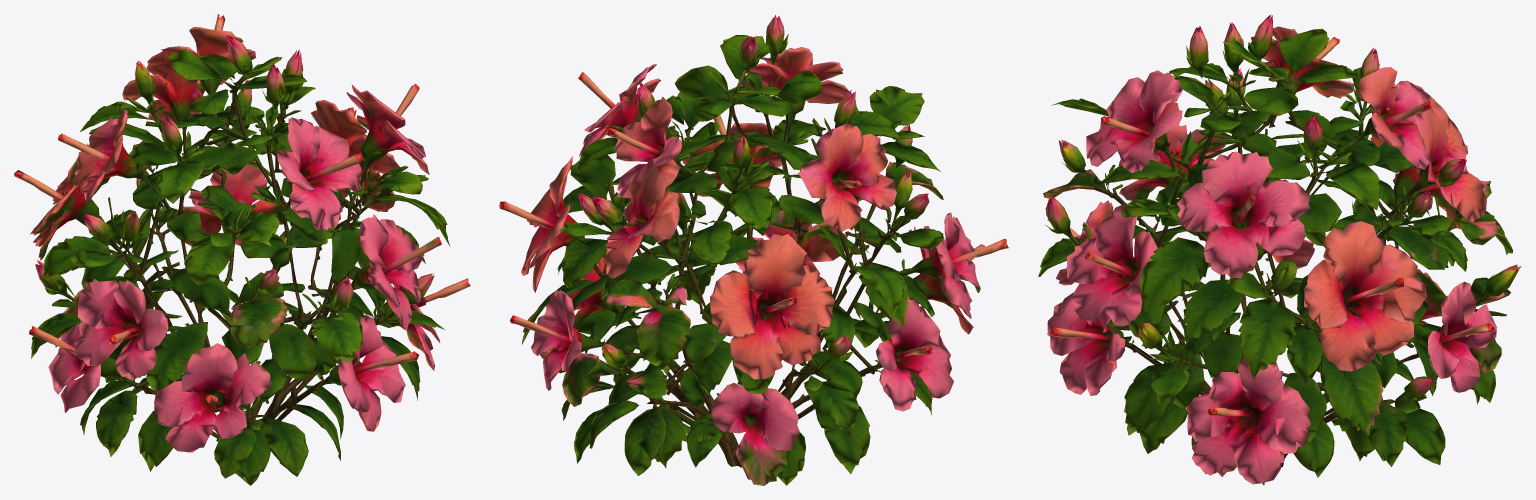
File: SM_Hibiscus.glb
3 views of the same model, side by side, from view 1: azimuth 30°, elevation 25°; view 2: azimuth 150°, elevation 25°; view 3: azimuth 270°, elevation 25° (orthographic). The views are drawn at different scales.
Visible parts, largest first — view 1: tripo_node_de49bd5b-2fc8-4704-bd43-df170317f172; view 2: tripo_node_de49bd5b-2fc8-4704-bd43-df170317f172; view 3: tripo_node_de49bd5b-2fc8-4704-bd43-df170317f172.
Boxes of the visible parts, x1=… form: tripo_node_de49bd5b-2fc8-4704-bd43-df170317f172: x1=14, y1=14, x2=470, y2=485; tripo_node_de49bd5b-2fc8-4704-bd43-df170317f172: x1=499, y1=15, x2=1008, y2=485; tripo_node_de49bd5b-2fc8-4704-bd43-df170317f172: x1=1038, y1=14, x2=1521, y2=485.
Bounding box in the file's own units: 0.963 × 0.9761 × 0.9631.
Materials: 1 (1 with a texture image).
